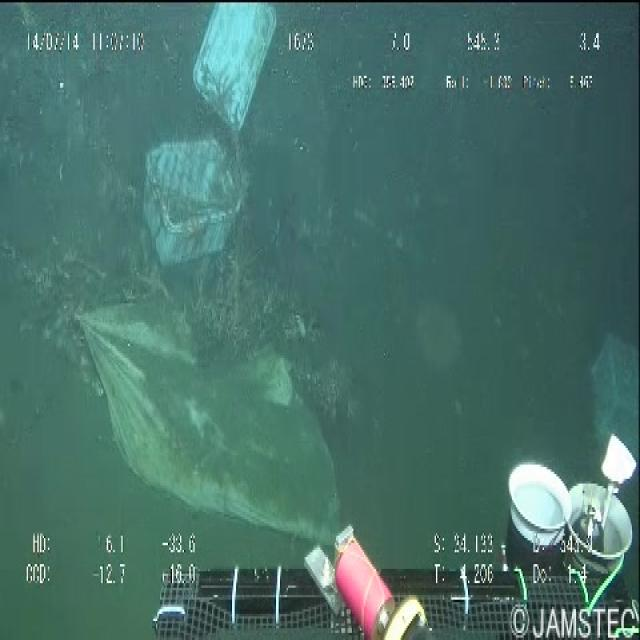plastic: (130, 0, 278, 282)
